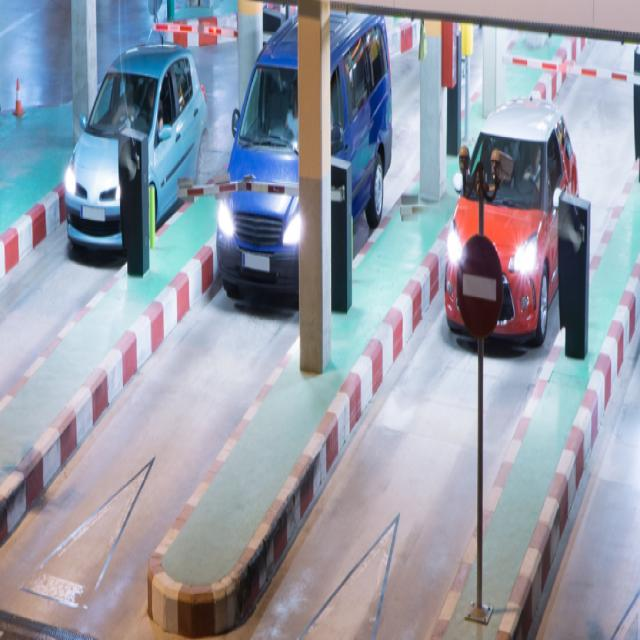libre: (286, 376, 510, 549), (57, 306, 267, 451), (0, 228, 94, 490)
ocupado: (234, 3, 400, 286), (444, 54, 592, 350), (58, 12, 214, 270)
